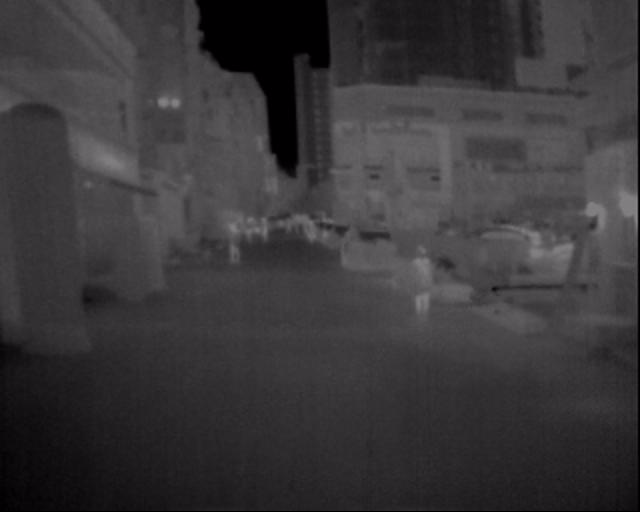person: (401, 238, 439, 325), (226, 206, 251, 270)
